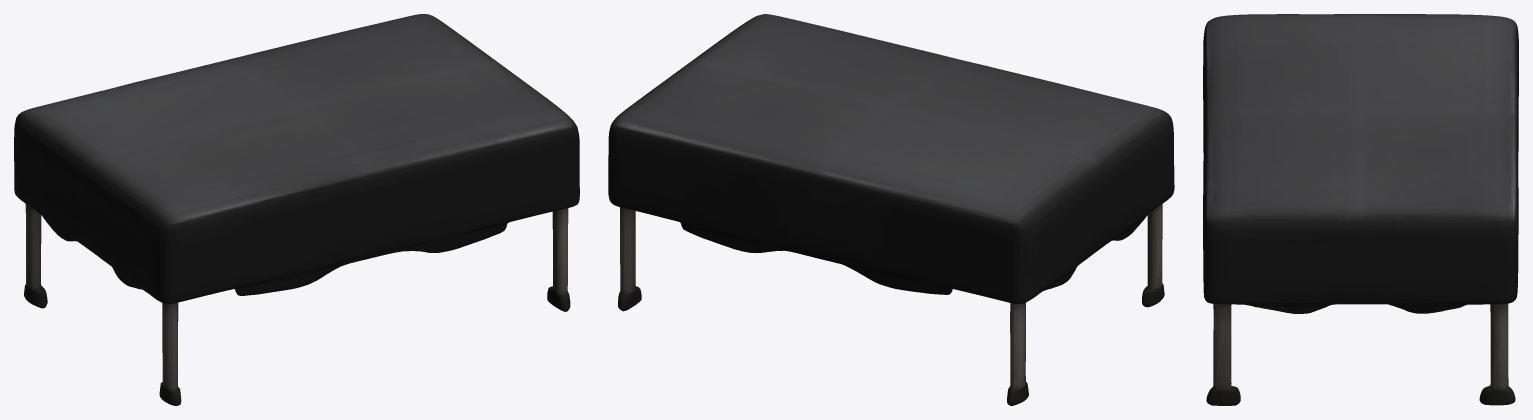
File: b2Seat.glb
The picture shows the model from 3 angles, left to right: view 1: azimuth 30°, elevation 25°; view 2: azimuth 150°, elevation 25°; view 3: azimuth 270°, elevation 25°; orthographic projection.
Visible parts, largest first — view 1: geometry_0; view 2: geometry_0; view 3: geometry_0.
Boxes of the visible parts, x1,y1,x2,y2 form: geometry_0: (14,14,579,405); geometry_0: (608,14,1174,405); geometry_0: (1203,14,1518,405).
Bounding box in the file's own units: 0.9999 × 0.4479 × 0.639.
1 material, 1 textured.
